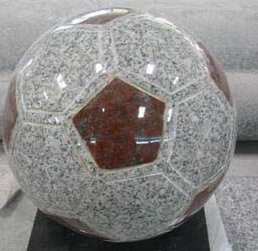ball: (2, 7, 237, 243)
